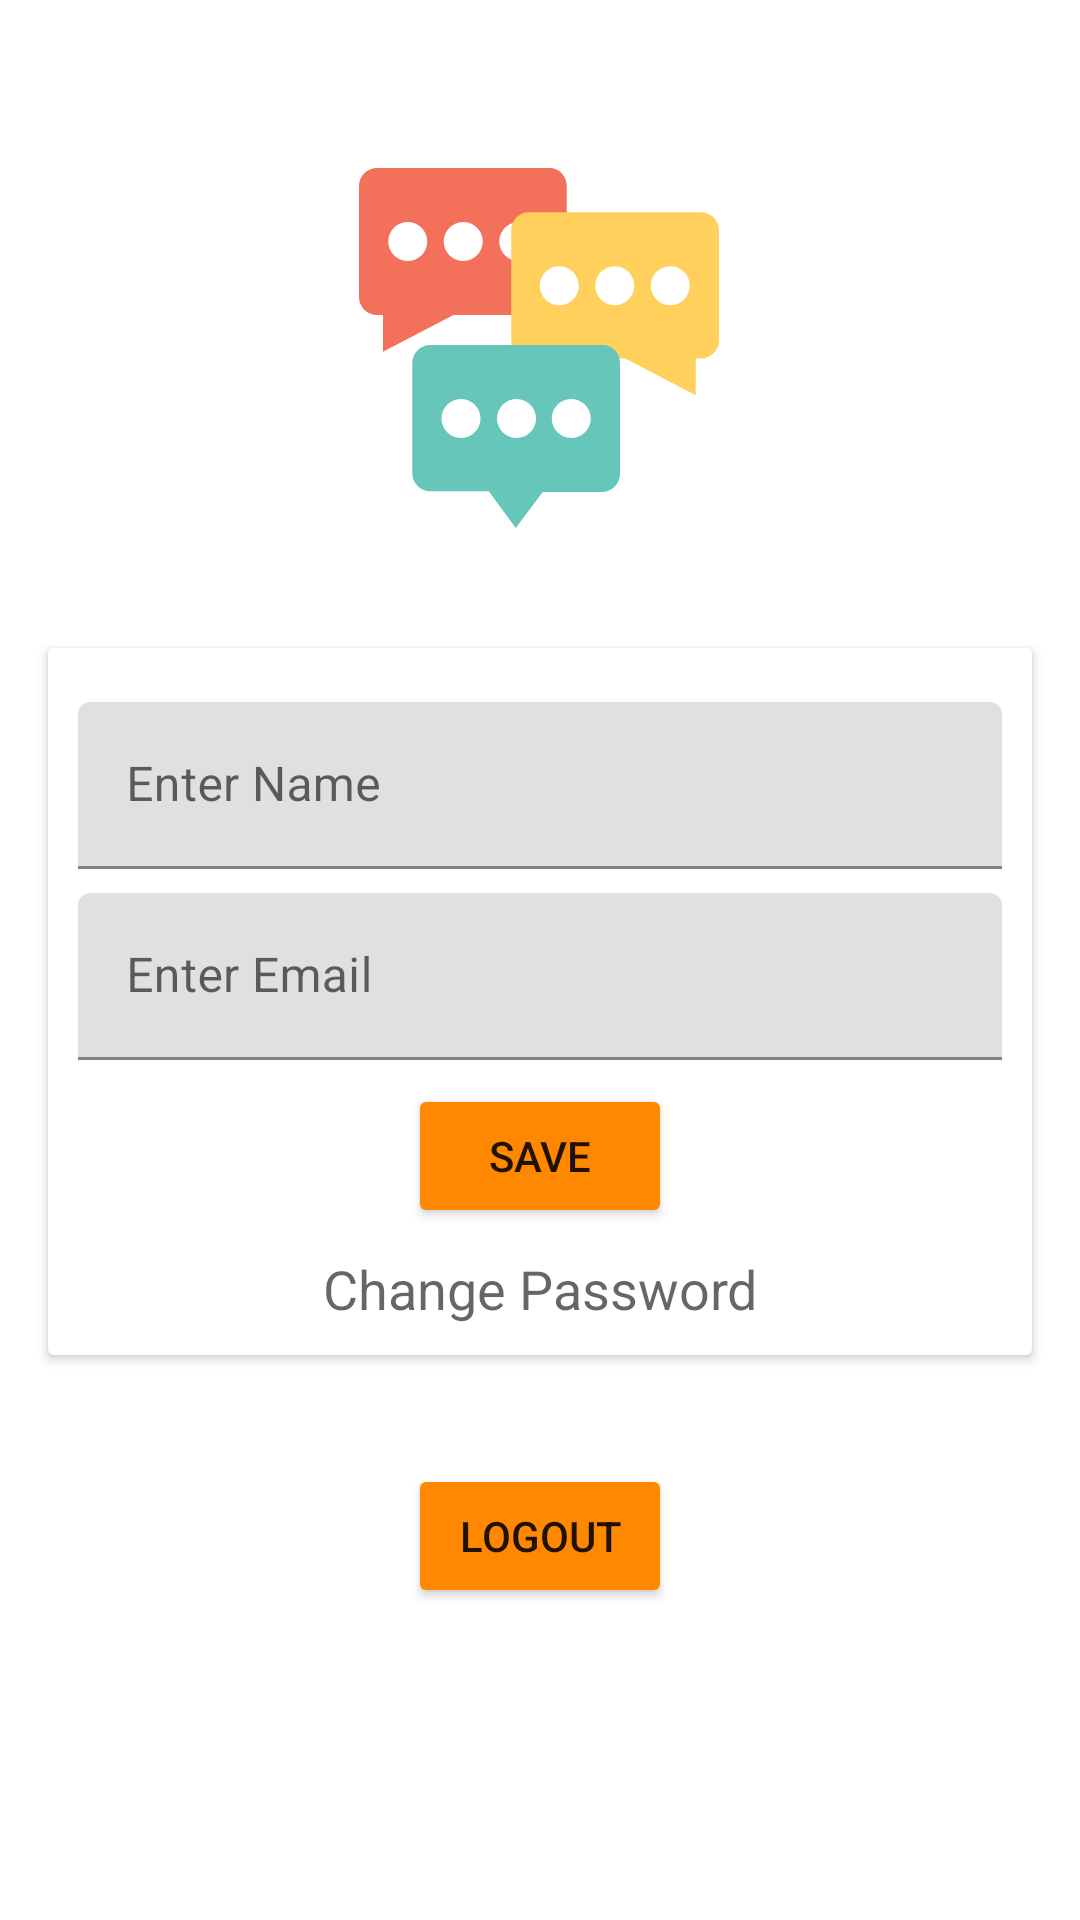

Screen size 1080×1920. Icon name, then its center in pixels as point (x, y):
chat: point (539, 348)
